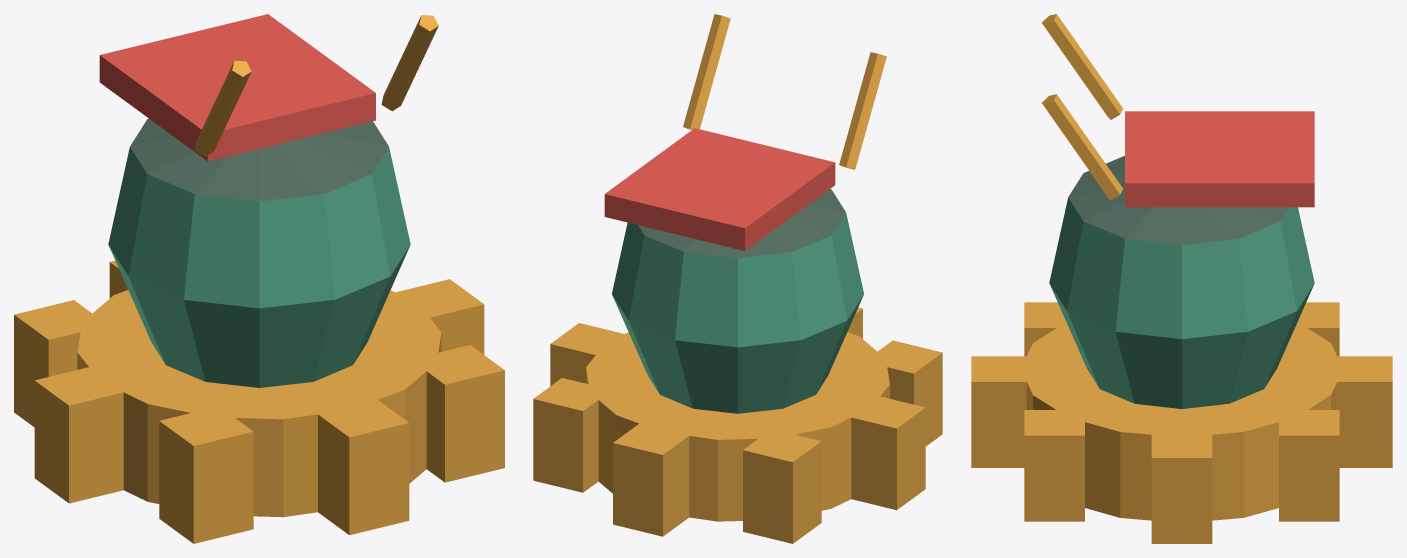
The model's file is ParkParkGearPod.obj.
3 renders of one model, left to right at view 1: azimuth 30°, elevation 25°; view 2: azimuth 150°, elevation 25°; view 3: azimuth 270°, elevation 25°, orthographic. The views are drawn at different scales.
Visible parts, largest first — view 1: ParkParkGearPod; view 2: ParkParkGearPod; view 3: ParkParkGearPod.
Part boxes in pixels (x1=…): ParkParkGearPod: x1=14, y1=14, x2=504, y2=543; ParkParkGearPod: x1=533, y1=14, x2=942, y2=543; ParkParkGearPod: x1=971, y1=14, x2=1392, y2=543.
Bounding box in the file's own units: 2.22 × 2.33 × 2.22.
